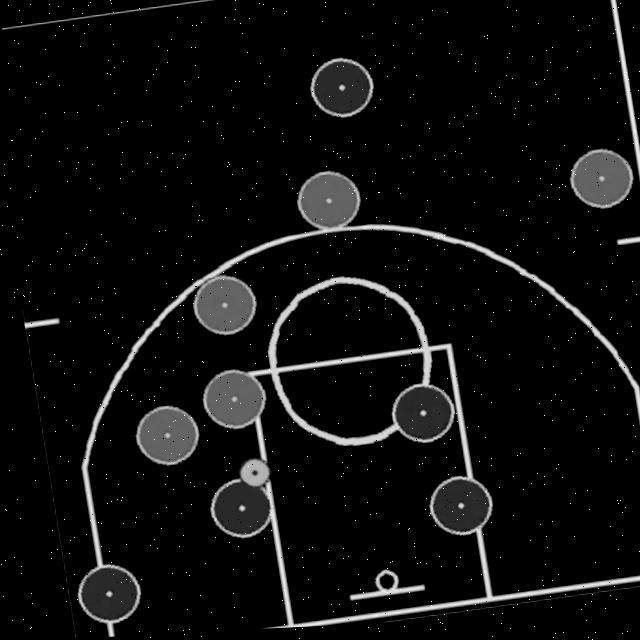Basketball: (229, 457, 263, 488)
Team_A: (67, 564, 130, 623), (384, 387, 447, 446), (307, 61, 370, 120), (420, 480, 483, 538), (201, 481, 261, 539)
Team_B: (187, 276, 250, 336), (565, 154, 628, 214), (195, 371, 258, 430), (292, 174, 356, 232), (128, 406, 190, 465)
